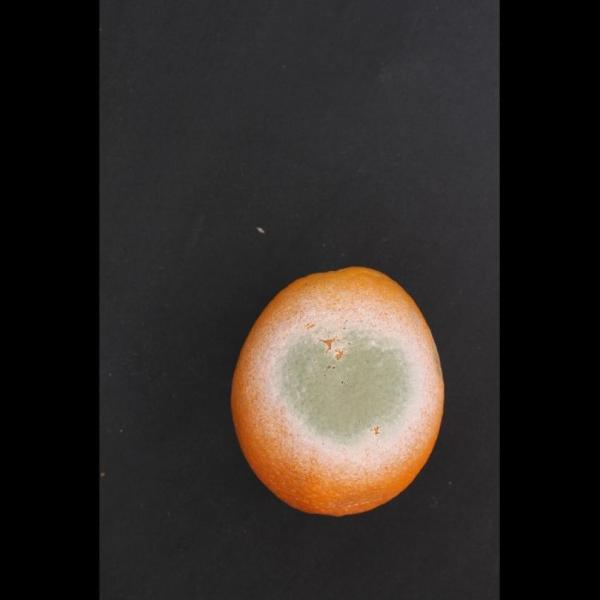Moho verde: (228, 252, 465, 523)
